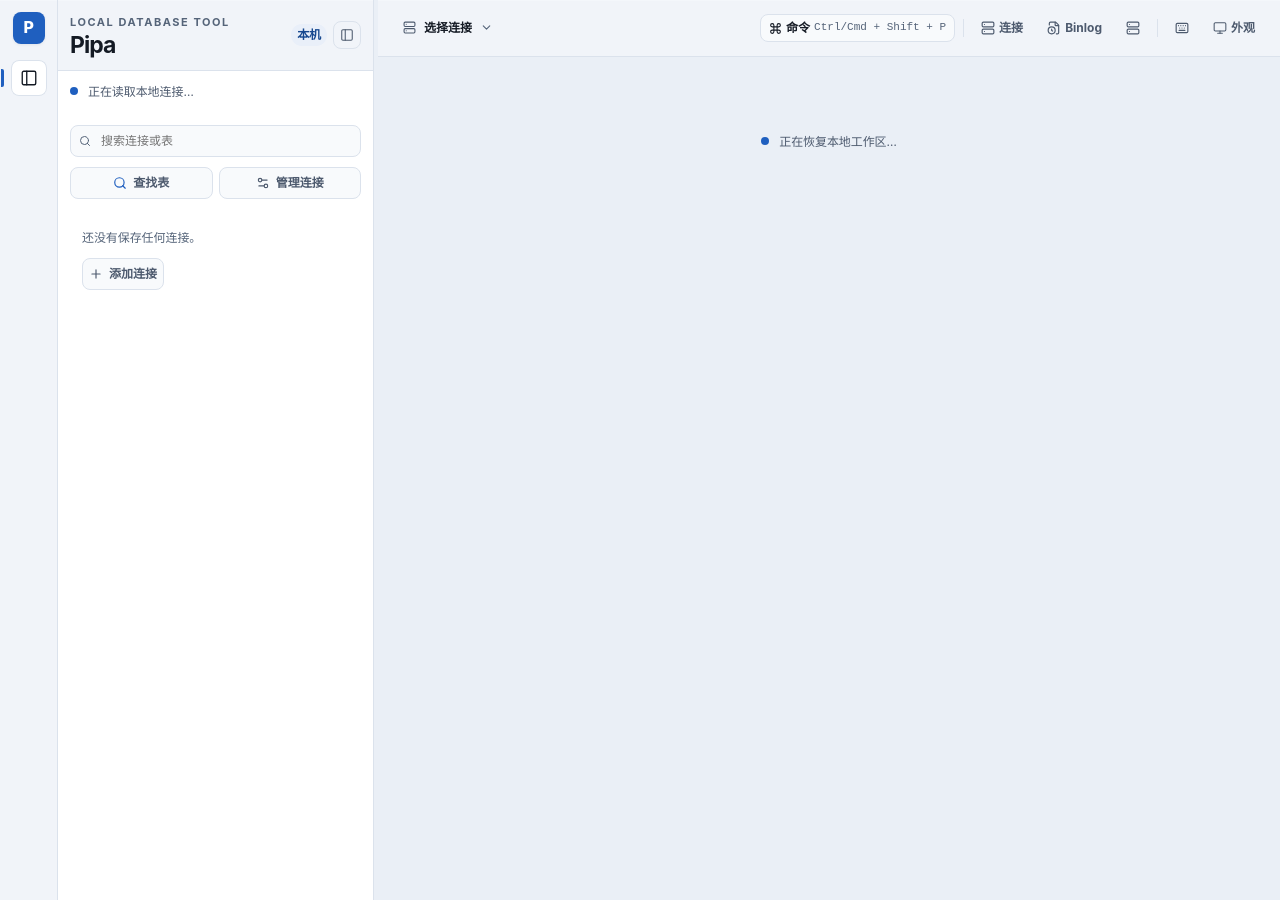
Test: App › hides MySQL guidance for unsupported connection engines
This screenshot has width=1280, height=900.
Click the button "选择连接".
click(448, 28)  # box left=394, top=14, right=502, bottom=42
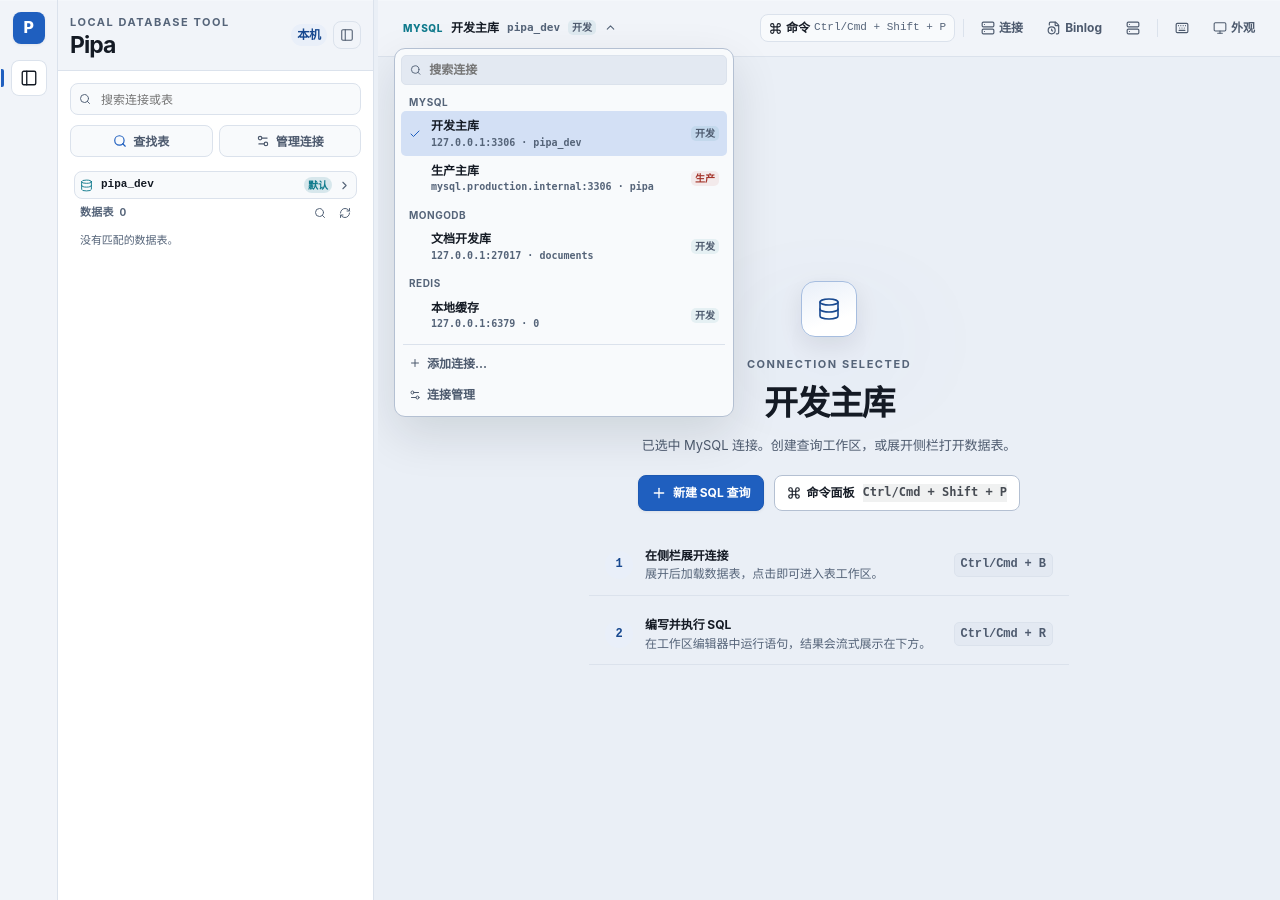
Click the option "文档开发库 127.0.0.1:27017 · documents 开发".
click(564, 247)  # box left=401, top=224, right=727, bottom=269
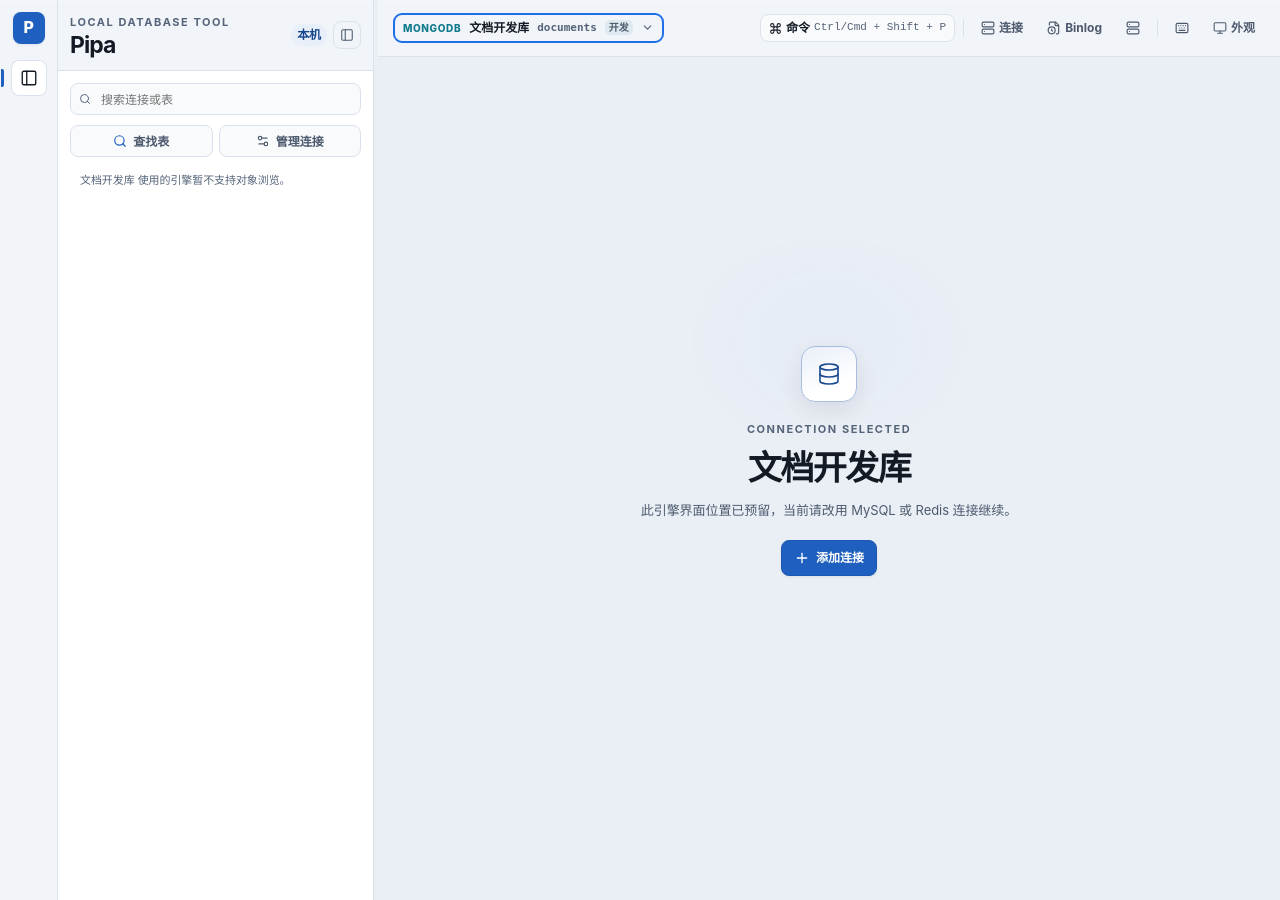
Now the heading "文档开发库" is shown, box left=748, top=446, right=910, bottom=490
Now the text "此引擎界面位置已预留，当前请改用 MySQL 或 Redis 连接继续。" is shown, box left=641, top=500, right=1017, bottom=520
Now the text "编写并执行 SQL" is gone
